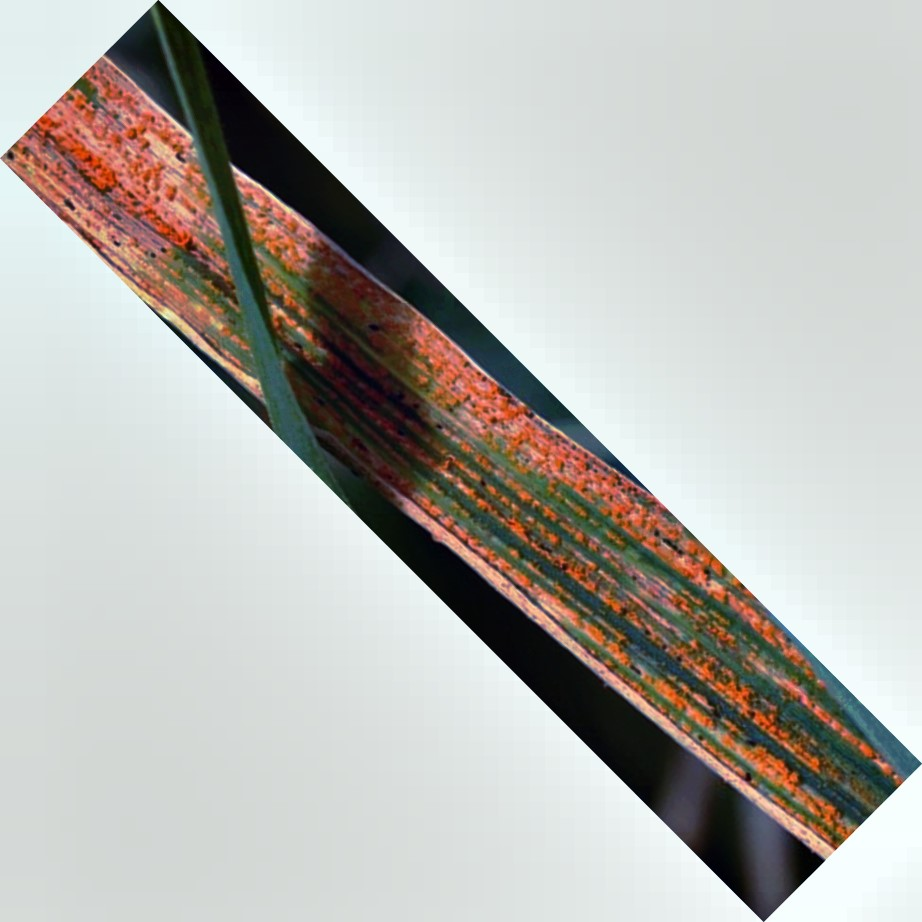Leaf Rust: (397, 353, 862, 834)
